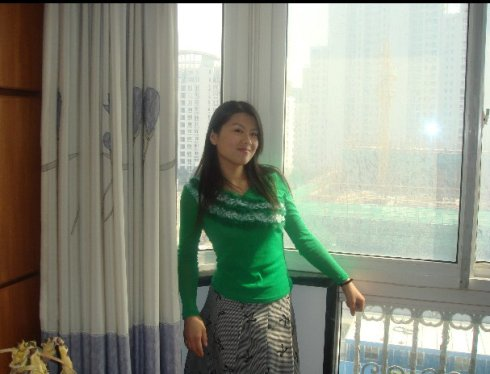no_mask: (203, 99, 266, 169)
